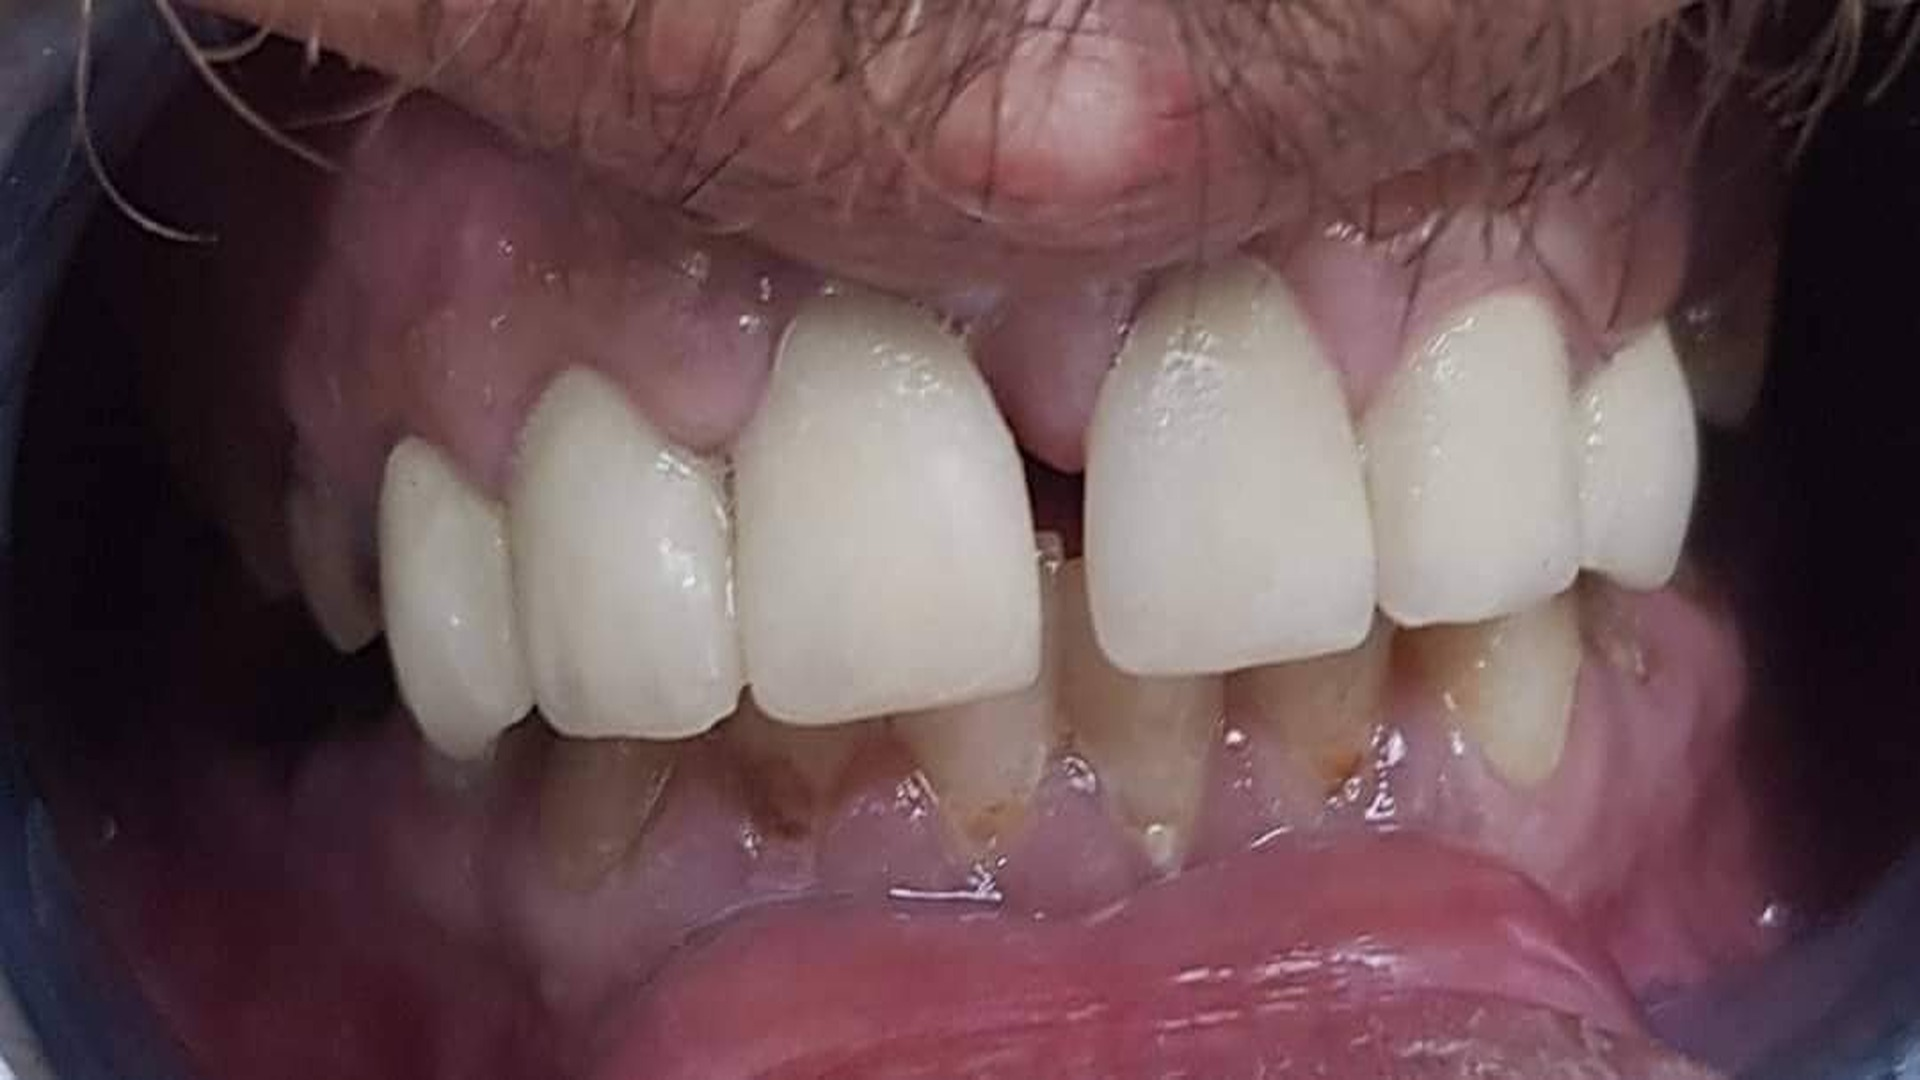tooth: (733, 291, 1043, 725), (1083, 258, 1377, 678), (512, 365, 744, 741), (1364, 286, 1582, 628), (1047, 558, 1226, 879), (379, 435, 535, 762), (1407, 584, 1582, 788), (1574, 322, 1698, 591)
